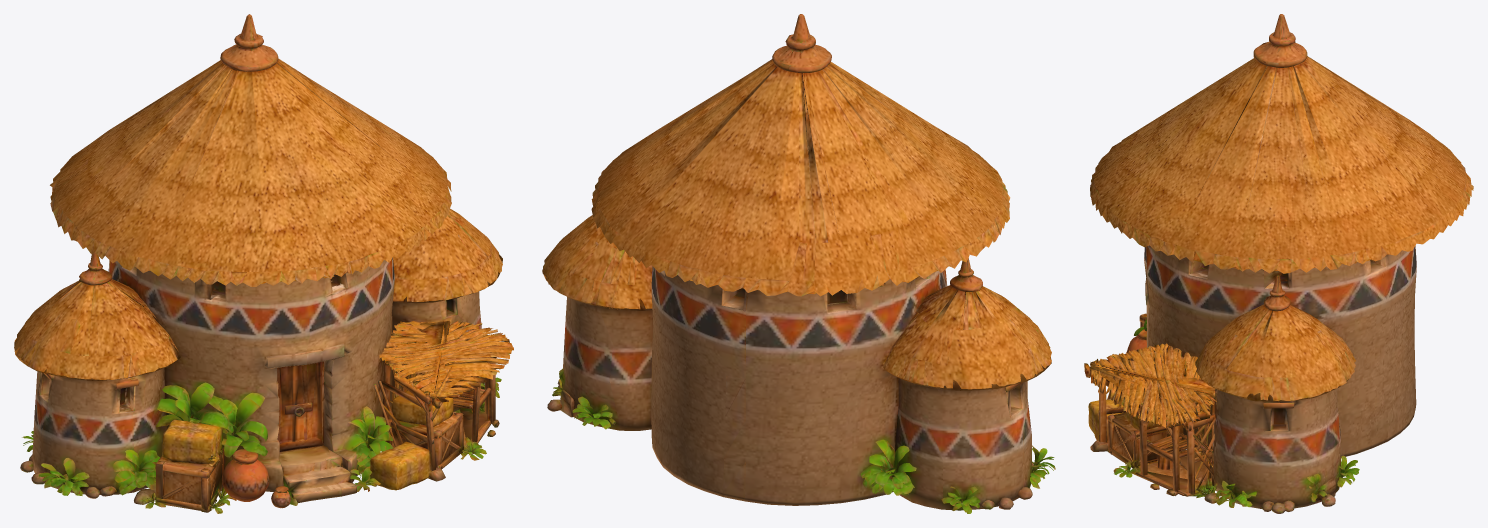
Rendered from etiope.glb.
The picture shows the model from 3 angles, left to right: view 1: azimuth 30°, elevation 25°; view 2: azimuth 150°, elevation 25°; view 3: azimuth 270°, elevation 25°; orthographic projection. The views are drawn at different scales.
Size of the model in its own units: 0.9521 by 0.8057 by 0.7217.
1 material, 1 textured.
